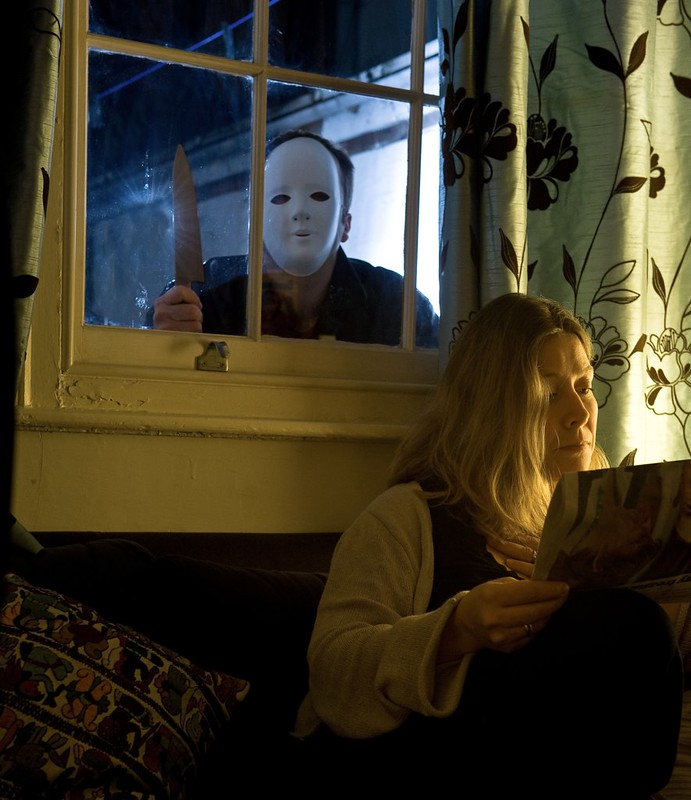knife: (159, 136, 218, 301)
person: (318, 286, 686, 786), (153, 120, 440, 370)
